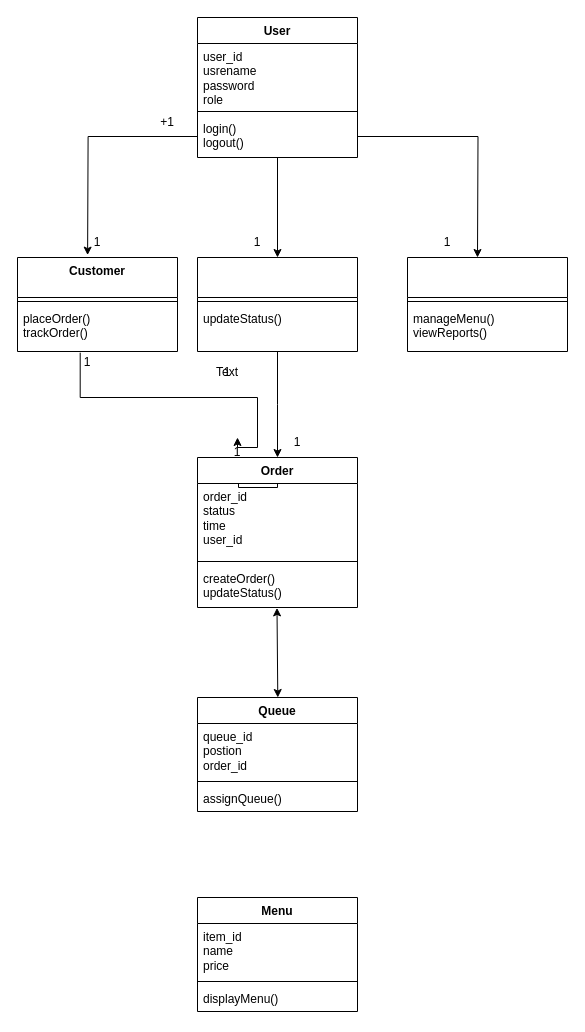
This 585x1032 diagram has some shape labels left out. Here are the shapes that lost their labels. From the top down, the box of each, then its label:
(196, 256, 358, 352): Staff
(406, 256, 568, 352): Admin
